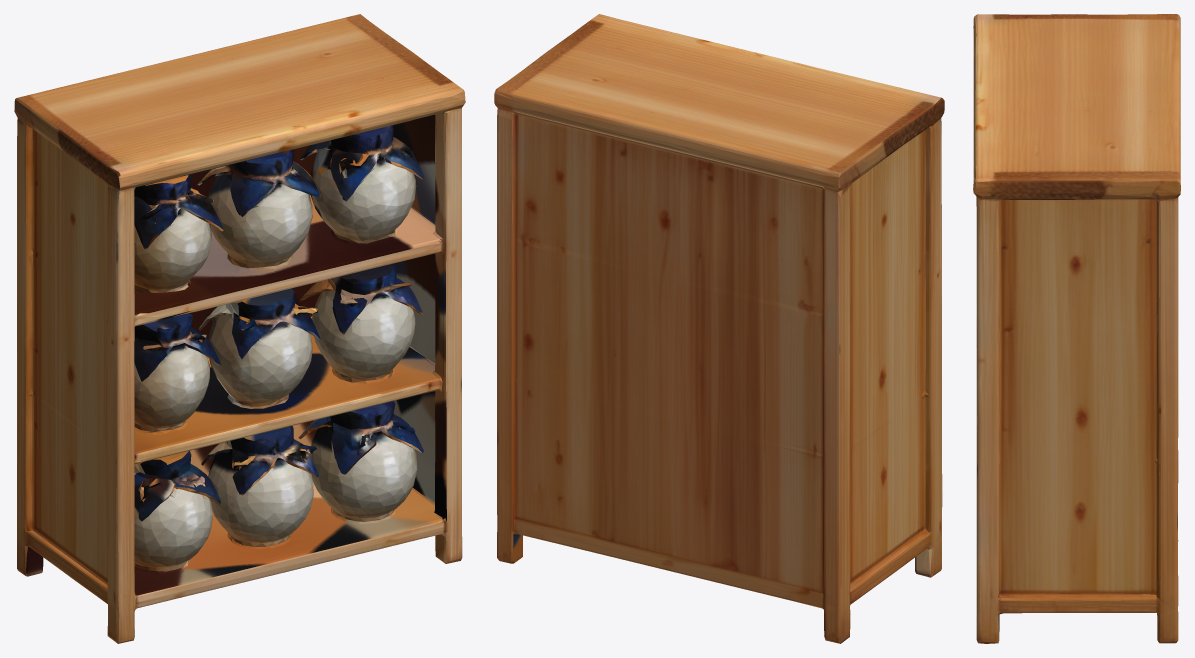
Rendered from traveler_env_coast_kudo_carp_sake_rack_00001_.glb.
3 renders of one model, left to right at view 1: azimuth 30°, elevation 25°; view 2: azimuth 150°, elevation 25°; view 3: azimuth 270°, elevation 25°, orthographic.
Visible parts, largest first — view 1: temp_mesh.ply; view 2: temp_mesh.ply; view 3: temp_mesh.ply.
Part boxes in pixels (x1,y1,x2,y2): temp_mesh.ply: [14, 14, 465, 643]; temp_mesh.ply: [494, 14, 944, 643]; temp_mesh.ply: [973, 14, 1180, 643].
Bounding box in the file's own units: 1.52 × 1.97 × 0.7994.
1 material, 1 textured.
